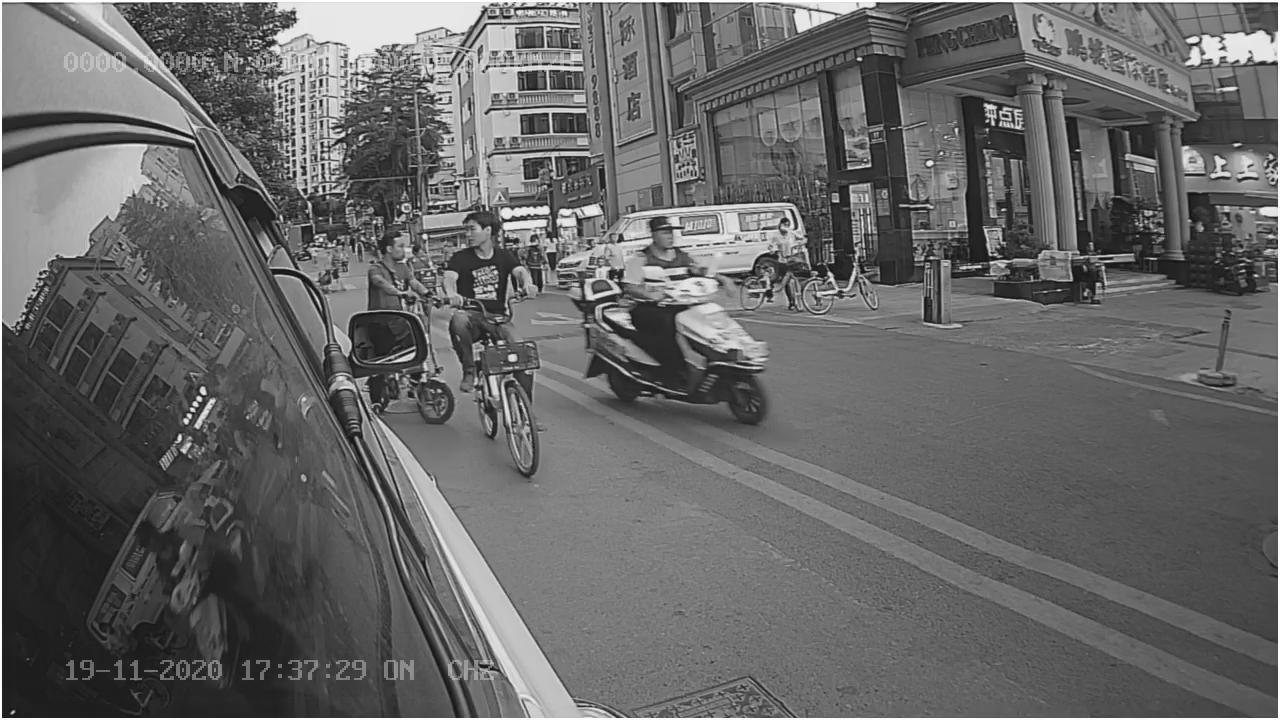person: (444, 206, 530, 290), (626, 209, 698, 283)
